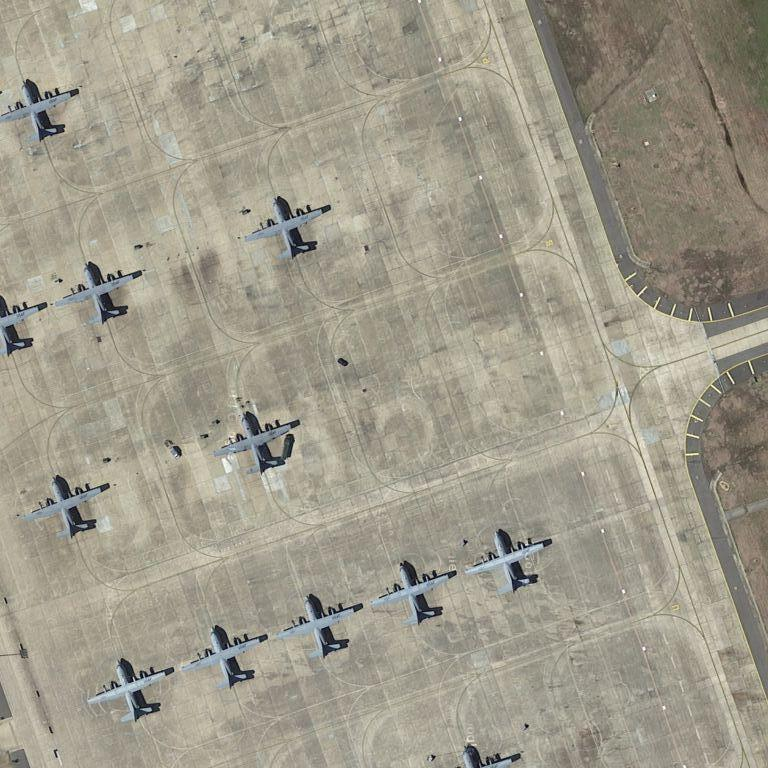C-130: (82, 654, 174, 728), (459, 529, 553, 599), (275, 592, 362, 666), (23, 471, 109, 545), (212, 408, 298, 480), (372, 560, 458, 631), (58, 259, 143, 330), (242, 197, 331, 264), (185, 625, 268, 692), (1, 79, 80, 145)
